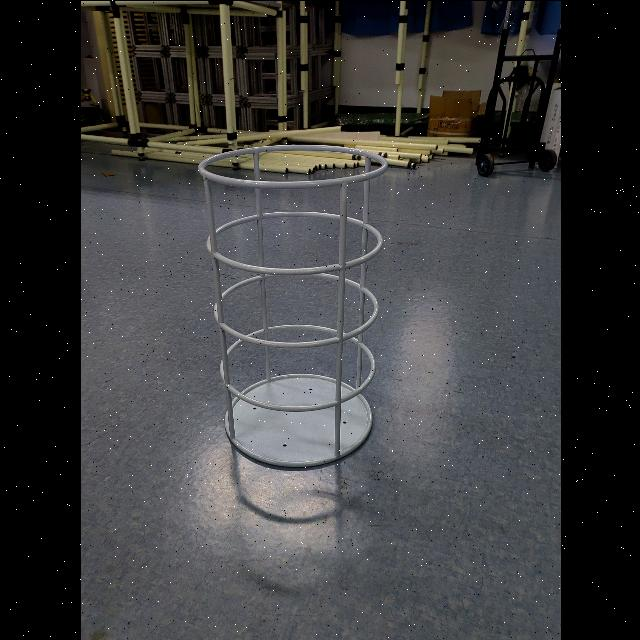S: (194, 140, 390, 472)
